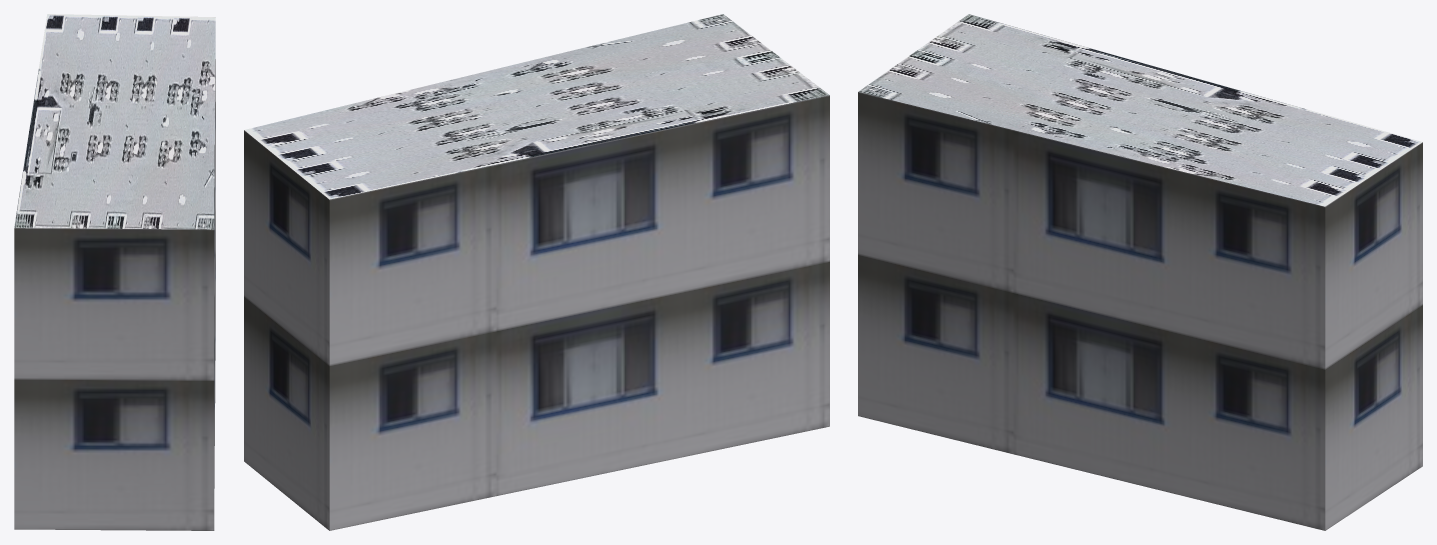
File: ResTex__3096.fbx
The picture shows the model from 3 angles, left to right: view 1: azimuth 30°, elevation 25°; view 2: azimuth 150°, elevation 25°; view 3: azimuth 270°, elevation 25°; orthographic projection. The views are drawn at different scales.
Parts seen in each view (by area): view 1: CityEngineMaterial_9_m, CityEngineMaterial_m; view 2: CityEngineMaterial_9_m, CityEngineMaterial_m; view 3: CityEngineMaterial_9_m, CityEngineMaterial_m.
Part boxes in pixels (x1,y1,x2,y2): CityEngineMaterial_9_m: (14, 59, 215, 530); CityEngineMaterial_m: (14, 14, 215, 229); CityEngineMaterial_9_m: (244, 95, 829, 530); CityEngineMaterial_m: (244, 14, 829, 199); CityEngineMaterial_9_m: (858, 92, 1422, 530); CityEngineMaterial_m: (858, 14, 1422, 206).
Size of the model in its own units: 7.65 by 6 by 9.47.
2 materials, 2 textured.
